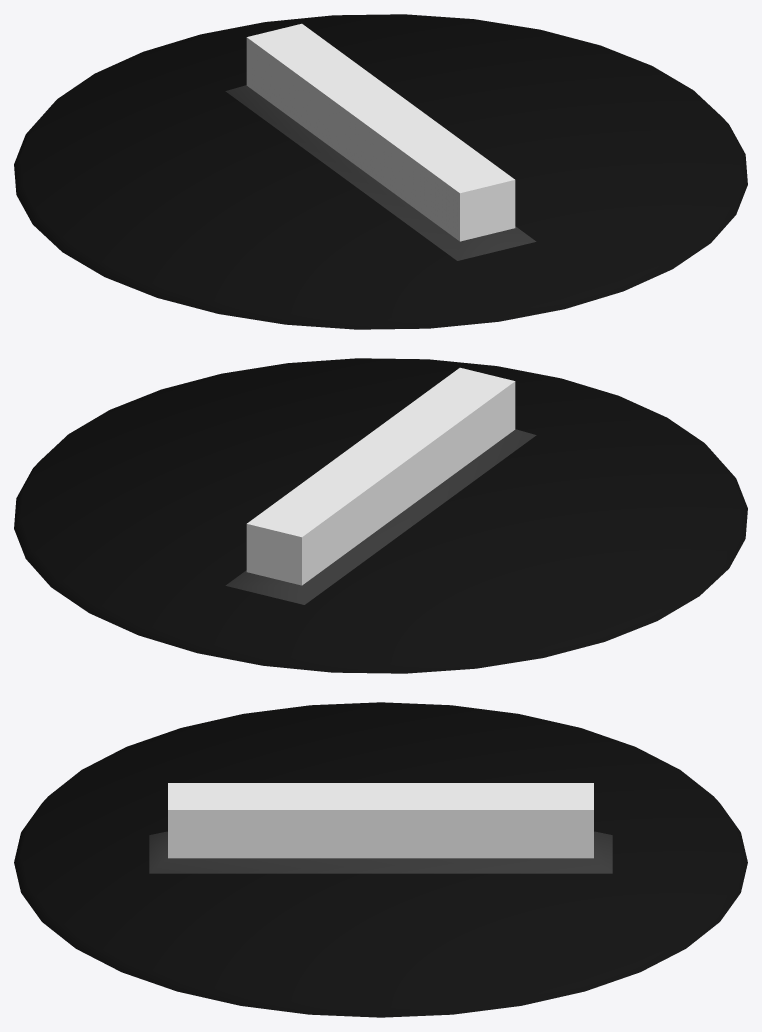
Rendered from forceFieldNew.obj.
3 views of the same model, one above another, from view 1: azimuth 30°, elevation 25°; view 2: azimuth 150°, elevation 25°; view 3: azimuth 270°, elevation 25° (orthographic).
Visible parts, largest first — view 1: FloorDisc, Cube_Cube.001; view 2: FloorDisc, Cube_Cube.001; view 3: FloorDisc, Cube_Cube.001.
Boxes of the visible parts, x1=… form: FloorDisc: x1=14, y1=14, x2=747, y2=329; Cube_Cube.001: x1=246, y1=23, x2=515, y2=241; FloorDisc: x1=14, y1=358, x2=747, y2=673; Cube_Cube.001: x1=246, y1=367, x2=515, y2=585; FloorDisc: x1=14, y1=702, x2=747, y2=1017; Cube_Cube.001: x1=168, y1=783, x2=593, y2=858.
Bounding box in the file's own units: 68.96 × 6.84 × 68.96.
